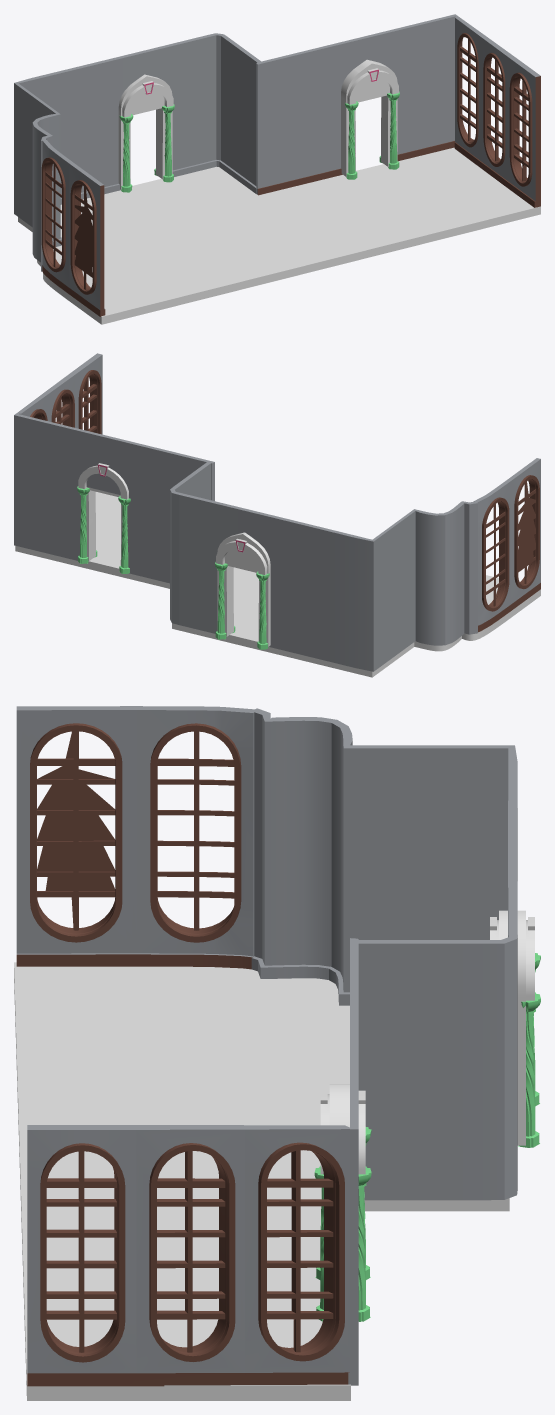
Rendered from BathroomTest.fbx.
The picture shows the model from 3 angles, top to bottom: view 1: azimuth 30°, elevation 25°; view 2: azimuth 150°, elevation 25°; view 3: azimuth 270°, elevation 25°; orthographic projection. The views are drawn at different scales.
Parts seen in each view (by area): view 1: BathroomCurve.004, RoundWindow.006, Doorhole.001, RoundWindow.005, RoundWindow.008, DoorWayWithArch.006, DoorWayWithArch.005, RoundWindow.007; view 2: RoundWindow.006, Doorhole.001, RoundWindow.008, BathroomCurve.004, DoorWayWithArch.005, RoundWindow.005, DoorWayWithArch.006; view 3: RoundWindow.006, BathroomCurve.004, RoundWindow.005, RoundWindow.008, DoorWayWithArch.005, Doorhole.001, DoorWayWithArch.006, RoundWindow.007.
Boxes of the visible parts, x1,y1,x2,y2 form: BathroomCurve.004: [18, 147, 540, 324]; RoundWindow.006: [14, 33, 260, 271]; Doorhole.001: [256, 14, 457, 195]; RoundWindow.005: [454, 16, 540, 207]; RoundWindow.008: [41, 140, 105, 316]; DoorWayWithArch.006: [341, 59, 399, 179]; DoorWayWithArch.005: [118, 74, 174, 192]; RoundWindow.007: [53, 160, 256, 246]; RoundWindow.006: [170, 462, 477, 671]; Doorhole.001: [14, 413, 214, 583]; RoundWindow.008: [474, 458, 540, 632]; BathroomCurve.004: [15, 492, 540, 677]; DoorWayWithArch.005: [215, 532, 270, 649]; RoundWindow.005: [16, 353, 102, 434]; DoorWayWithArch.006: [77, 463, 130, 573]; RoundWindow.006: [251, 708, 517, 1200]; BathroomCurve.004: [14, 962, 509, 1400]; RoundWindow.005: [27, 1125, 350, 1386]; RoundWindow.008: [16, 706, 254, 969]; DoorWayWithArch.005: [490, 910, 540, 1147]; Doorhole.001: [348, 938, 358, 1385]; DoorWayWithArch.006: [314, 1084, 371, 1321]; RoundWindow.007: [251, 956, 349, 1005].
Size of the model in its own units: 1779 by 525 by 925.
